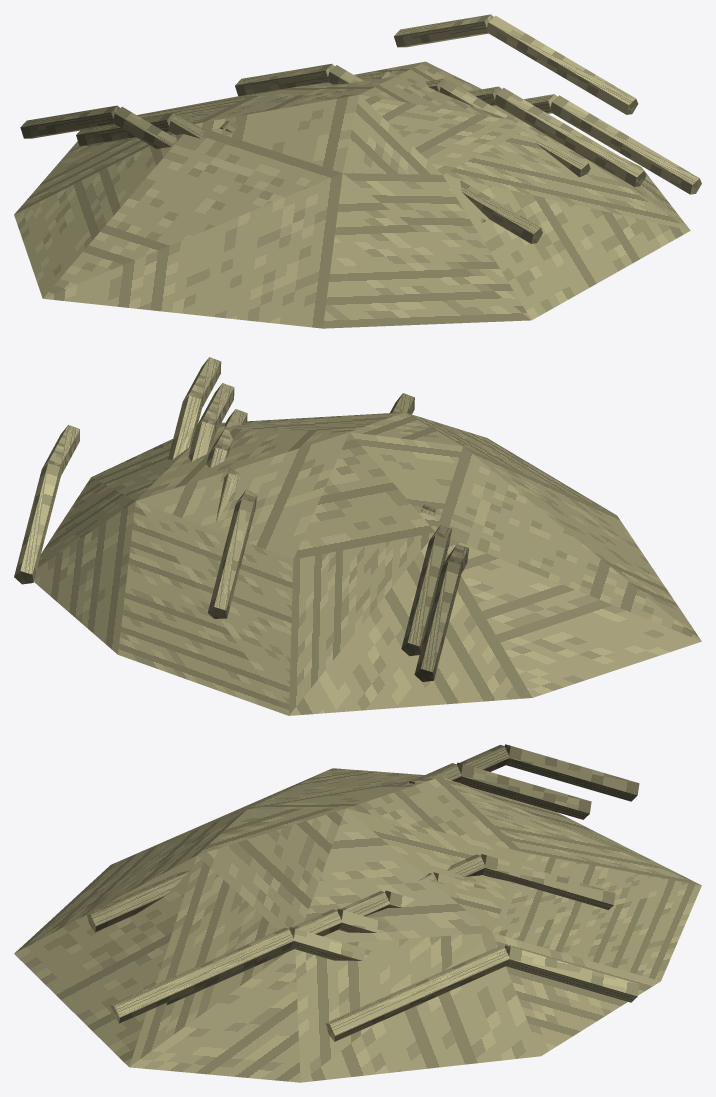
Rendered from plant_fibre.glb.
3 renders of one model, top to bottom at view 1: azimuth 30°, elevation 25°; view 2: azimuth 150°, elevation 25°; view 3: azimuth 270°, elevation 25°, orthographic. The views are drawn at different scales.
Visible parts, largest first — view 1: block_loose bundle, block_individual fiber 1 (×7), block_individual fiber 0 (×4); view 2: block_loose bundle, block_individual fiber 0 (×6), block_individual fiber 1 (×4); view 3: block_loose bundle, block_individual fiber 1 (×7), block_individual fiber 0 (×6).
Boxes of the visible parts, left/top/right/bottom form: block_loose bundle: left=14, top=61, right=690, bottom=328; block_individual fiber 1 (×7): left=112, top=15, right=701, bottom=243; block_individual fiber 0 (×4): left=20, top=14, right=493, bottom=146; block_loose bundle: left=34, top=412, right=701, bottom=715; block_individual fiber 0 (×6): left=14, top=395, right=461, bottom=681; block_individual fiber 1 (×4): left=42, top=357, right=247, bottom=476; block_loose bundle: left=14, top=768, right=701, bottom=1082; block_individual fiber 1 (×7): left=86, top=745, right=509, bottom=1041; block_individual fiber 0 (×6): left=289, top=744, right=639, bottom=1002.
Bounding box in the file's own units: 0.1184 × 0.0229 × 0.1072.
Materials: 1 (1 with a texture image).
